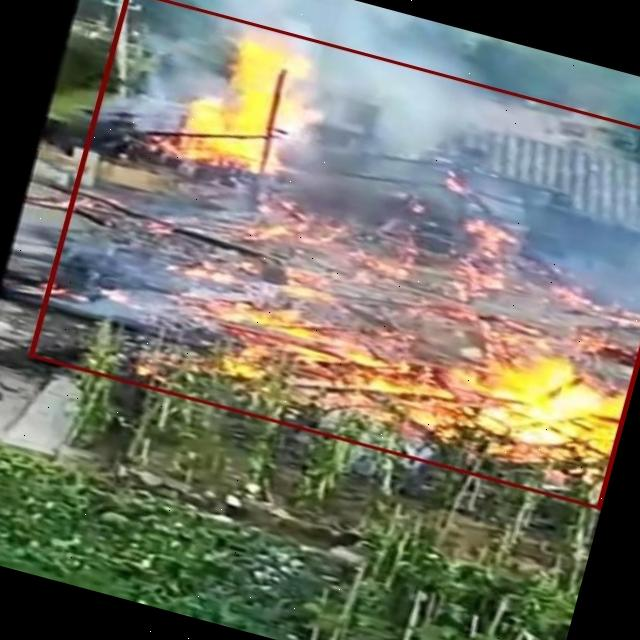fire: (28, 0, 640, 508)
